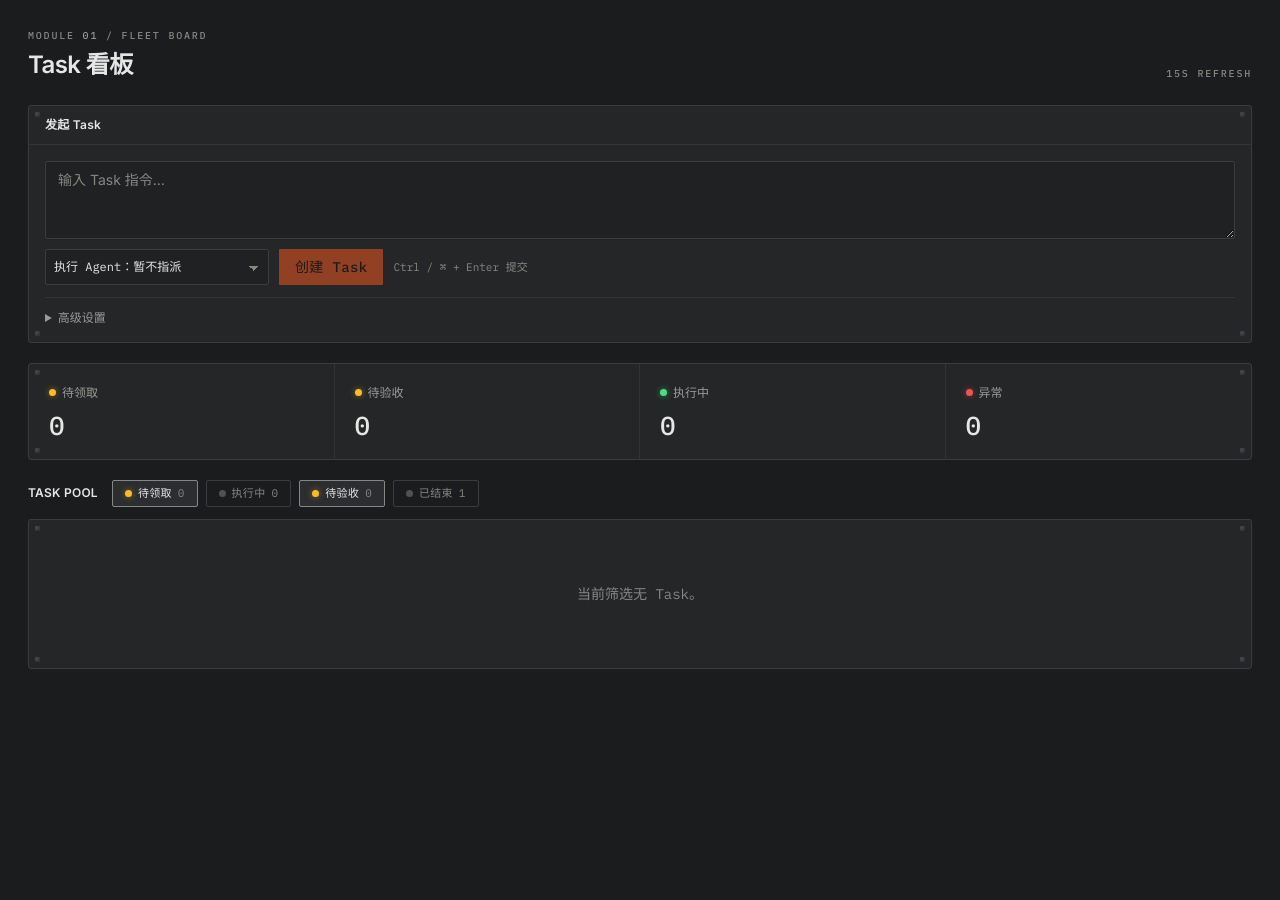
Test: 定义与实例导航 › 首页突出 Task 与 Output，经最新 Loop 进入 Thread，Agent 定义仅作辅助引用
Click the button "已结束 1": (436, 493) [393,480,479,506]
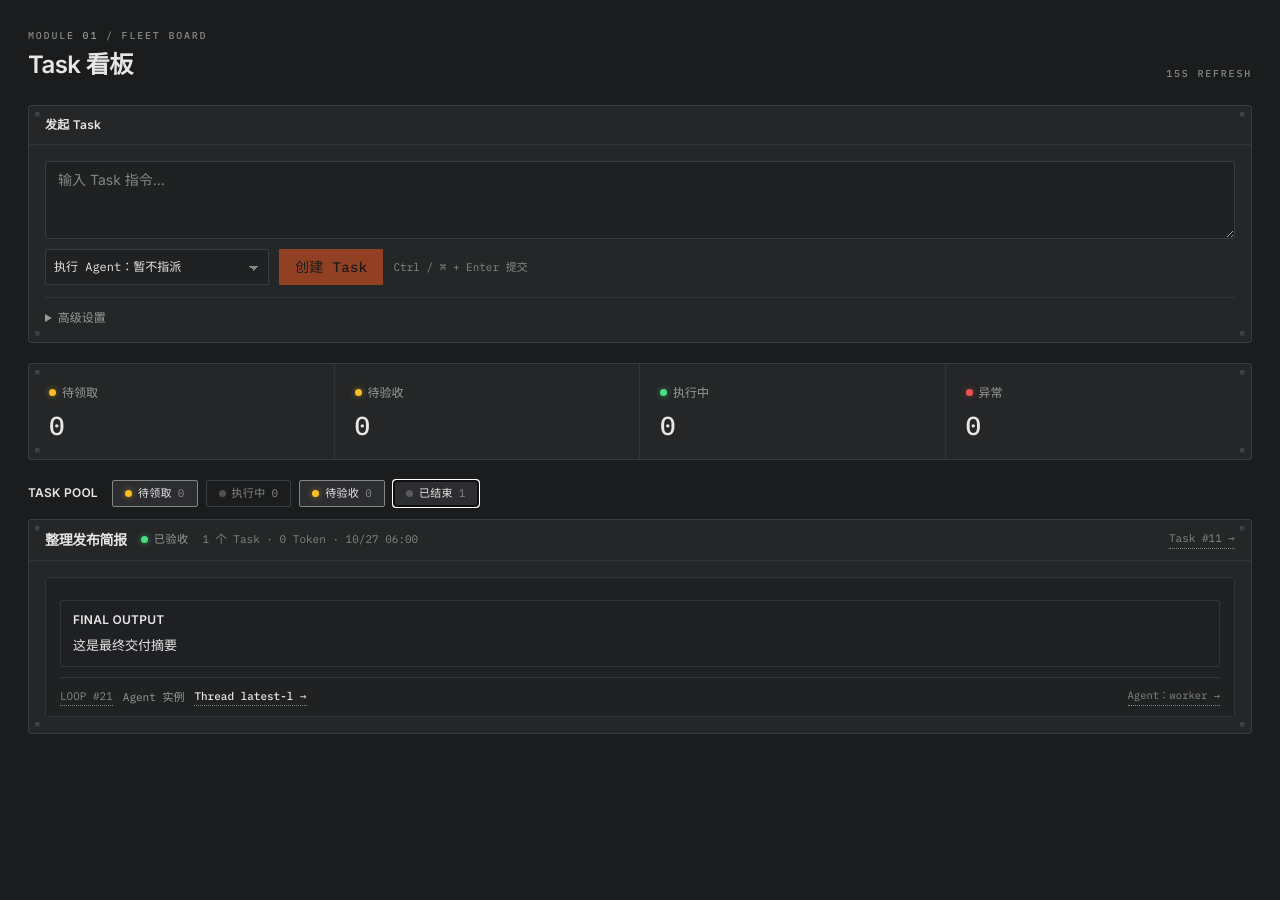
Expected: the text "FINAL OUTPUT" is shown, [73,612,164,626]
Expected: the text "这是最终交付摘要" is shown, [73,636,177,652]
Expected: the link "整理发布简报" is shown, [45,530,127,550]
